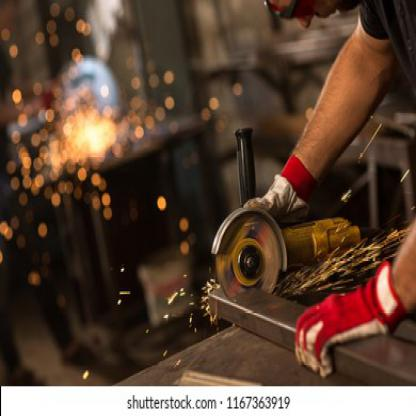with_gloves: (296, 262, 406, 378), (242, 154, 318, 220)
